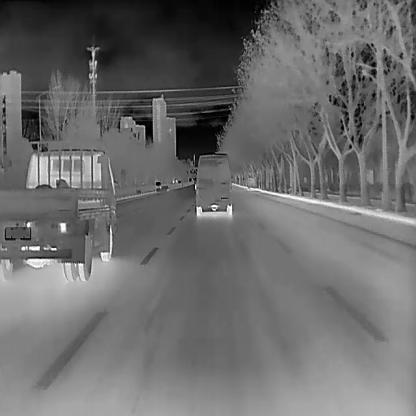car: (0, 139, 125, 280), (194, 153, 232, 215), (246, 176, 254, 186), (154, 180, 161, 188)
